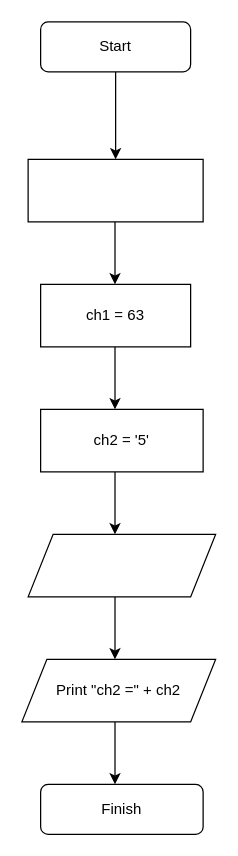
Image size: 238x856. Some labels were removed from this diagram. The box of each missing label's shape, as (x1, y1, x2, y2) in pixels:
Char ch1 Char ch2: (27, 158, 203, 222)
Print "ch1 =" + ch1: (27, 533, 216, 597)
